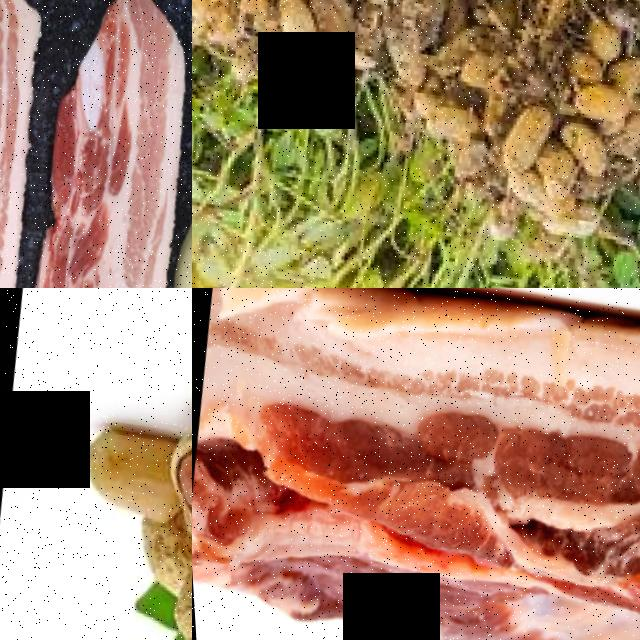peanuts: (73, 423, 178, 526), (492, 100, 546, 177), (552, 118, 613, 178), (527, 144, 580, 204), (270, 0, 322, 57), (276, 46, 328, 97), (566, 82, 629, 124), (169, 443, 192, 531), (355, 0, 426, 15)
pork belly: (192, 288, 640, 640), (0, 0, 192, 288), (0, 0, 73, 288)
